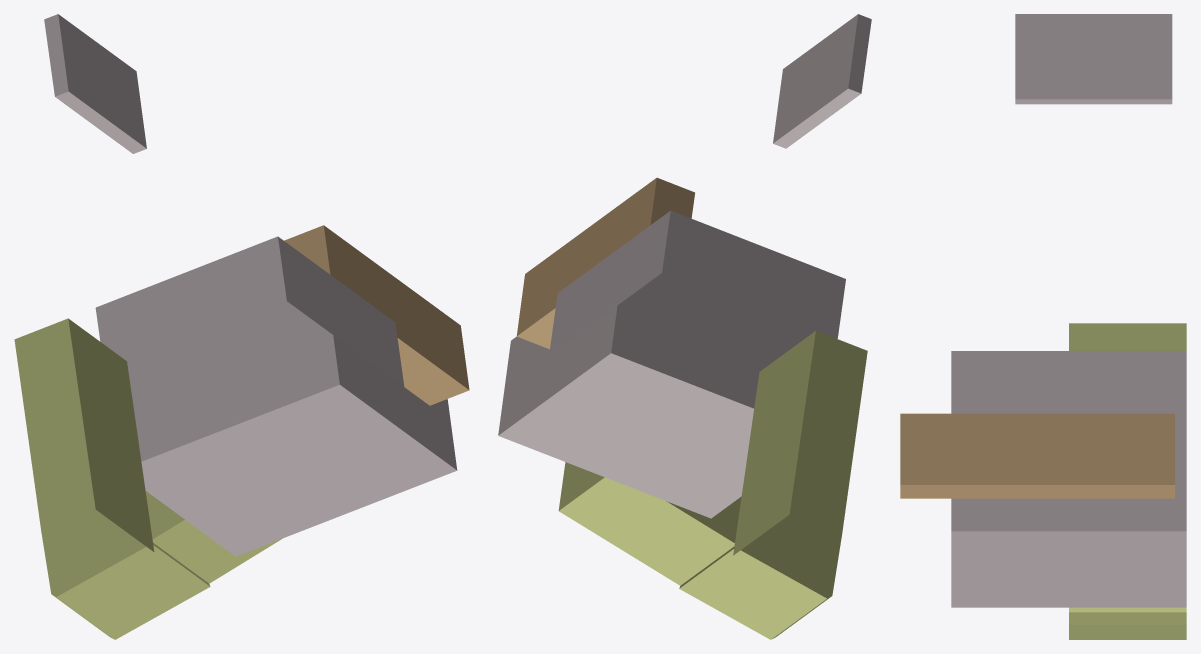
The picture shows the model from 3 angles, left to right: view 1: azimuth 30°, elevation 25°; view 2: azimuth 150°, elevation 25°; view 3: azimuth 270°, elevation 25°; orthographic projection. The views are drawn at different scales.
Parts seen in each view (by area): view 1: 0_1_3_2_1_1_1_2_0; view 2: 0_1_3_2_1_1_1_2_0; view 3: 0_1_3_2_1_1_1_2_0.
Part boxes in pixels (x1=…): 0_1_3_2_1_1_1_2_0: x1=14, y1=14, x2=469, y2=639; 0_1_3_2_1_1_1_2_0: x1=498, y1=14, x2=871, y2=639; 0_1_3_2_1_1_1_2_0: x1=900, y1=14, x2=1186, y2=639.
Size of the model in its own units: 28.79 by 49.84 by 21.91.
